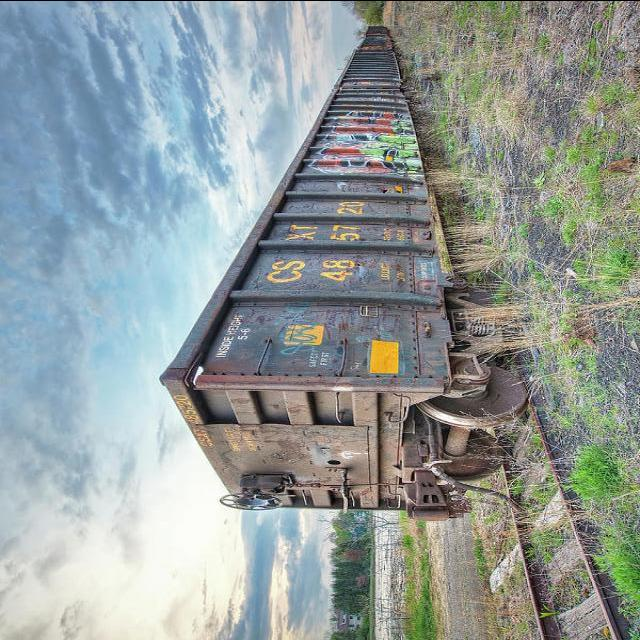wagon: (318, 198, 372, 280)
